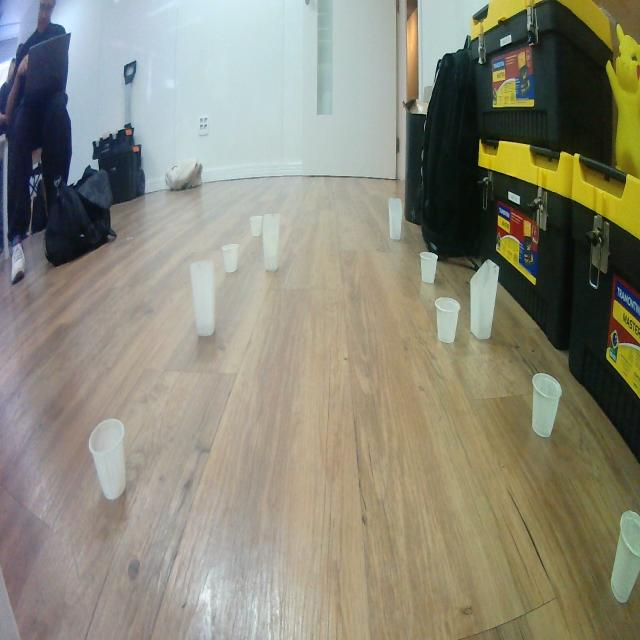erva_daninha: (469, 258, 500, 341), (190, 258, 216, 338), (261, 212, 281, 272), (388, 197, 402, 241)
planta: (88, 418, 126, 501), (610, 508, 640, 604), (530, 372, 563, 438), (434, 296, 461, 344), (418, 250, 438, 284), (222, 243, 238, 274), (250, 216, 263, 237)
